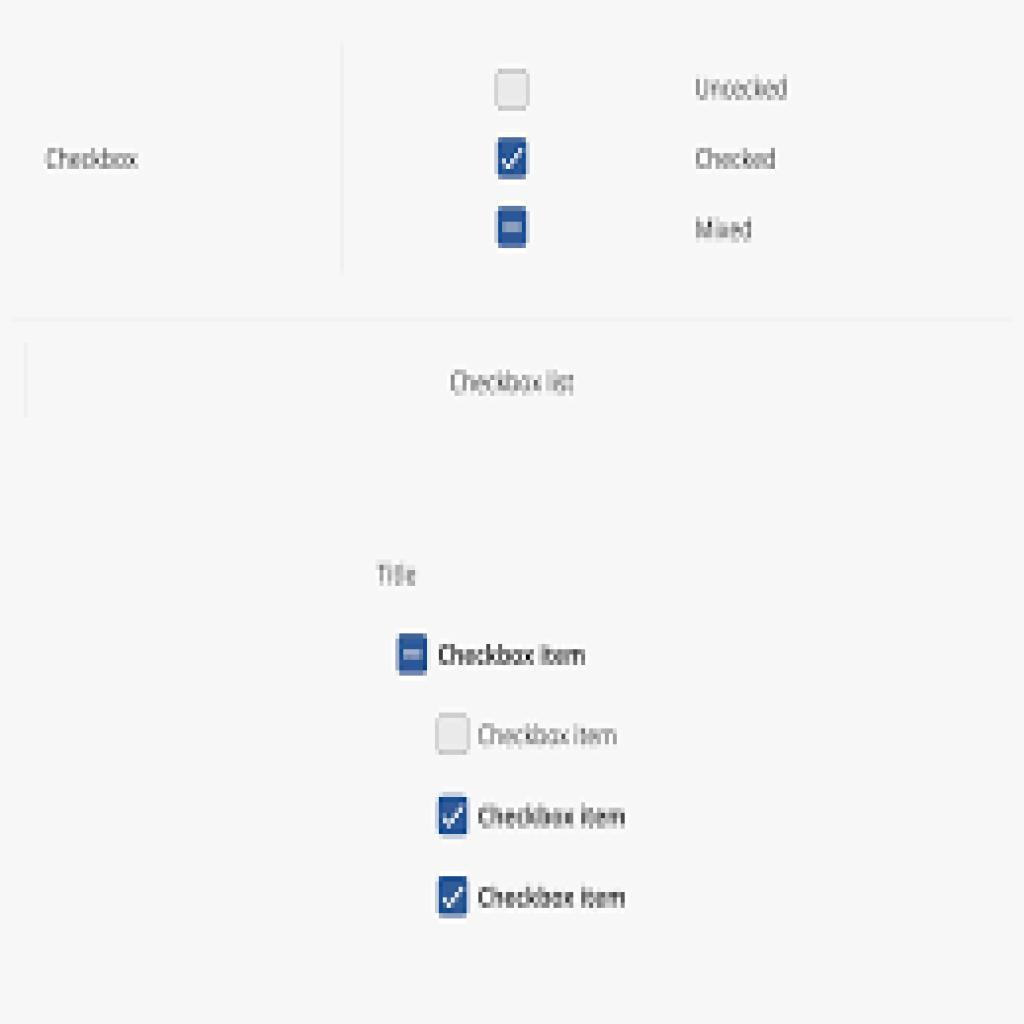checkbox: (437, 712, 474, 756), (397, 631, 430, 678), (496, 136, 531, 179), (497, 205, 530, 250), (496, 68, 530, 111), (438, 796, 471, 838), (438, 876, 470, 917)
